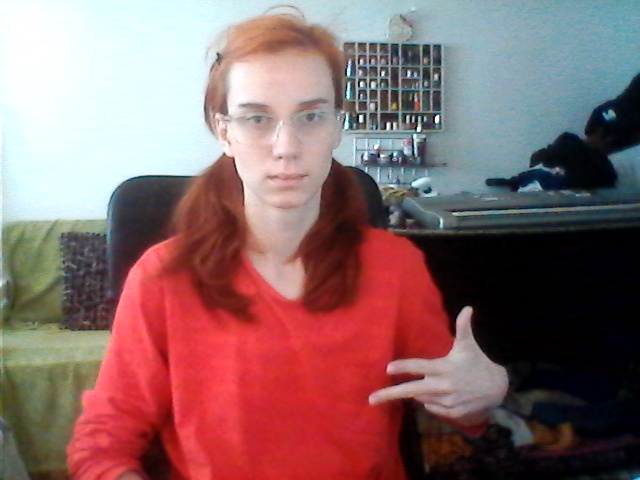tri: (365, 304, 507, 432)
